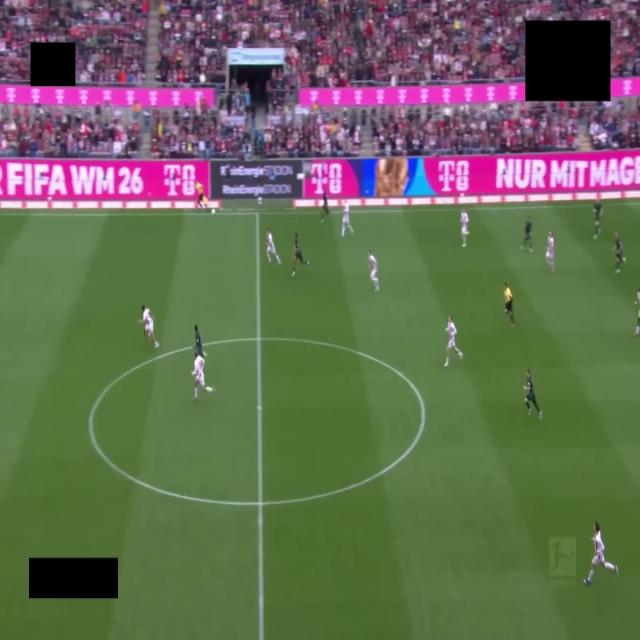ball: (211, 208, 215, 215)
player: (584, 522, 617, 585), (192, 351, 213, 399), (445, 315, 462, 367), (524, 370, 542, 419), (139, 305, 159, 348), (292, 233, 309, 276), (266, 228, 280, 264), (368, 249, 379, 291), (614, 232, 625, 273), (521, 216, 532, 252), (342, 203, 353, 238), (546, 232, 555, 272), (195, 325, 206, 357), (594, 200, 602, 239), (461, 210, 468, 247), (321, 191, 329, 222), (634, 288, 639, 336)
referee: (504, 283, 514, 326)
